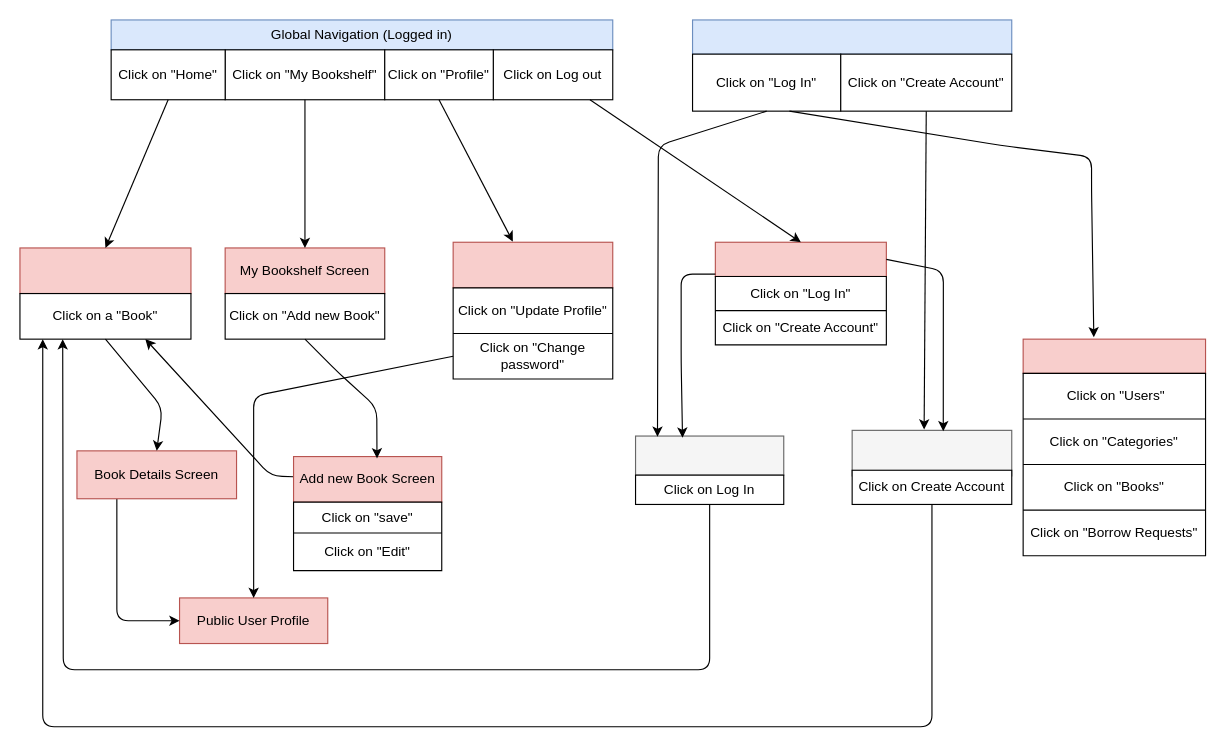
Some shapes in this 1226 by 756 pixel diagram are drawn without their labels. The shapes that lost their labels are listed below. From the top down, each one's box as (x1, y1, x2, y2) in pixels, then its label:
(691, 19, 1012, 54): Global Navigation (Logged out)
(19, 247, 191, 294): Dashboard screen
(452, 241, 613, 288): Profile Screen
(714, 241, 886, 276): Top Page screen
(1022, 338, 1206, 373): Admin Dashboard Screen
(634, 435, 784, 475): Log In screen
(851, 429, 1012, 476): Create Account Screen
